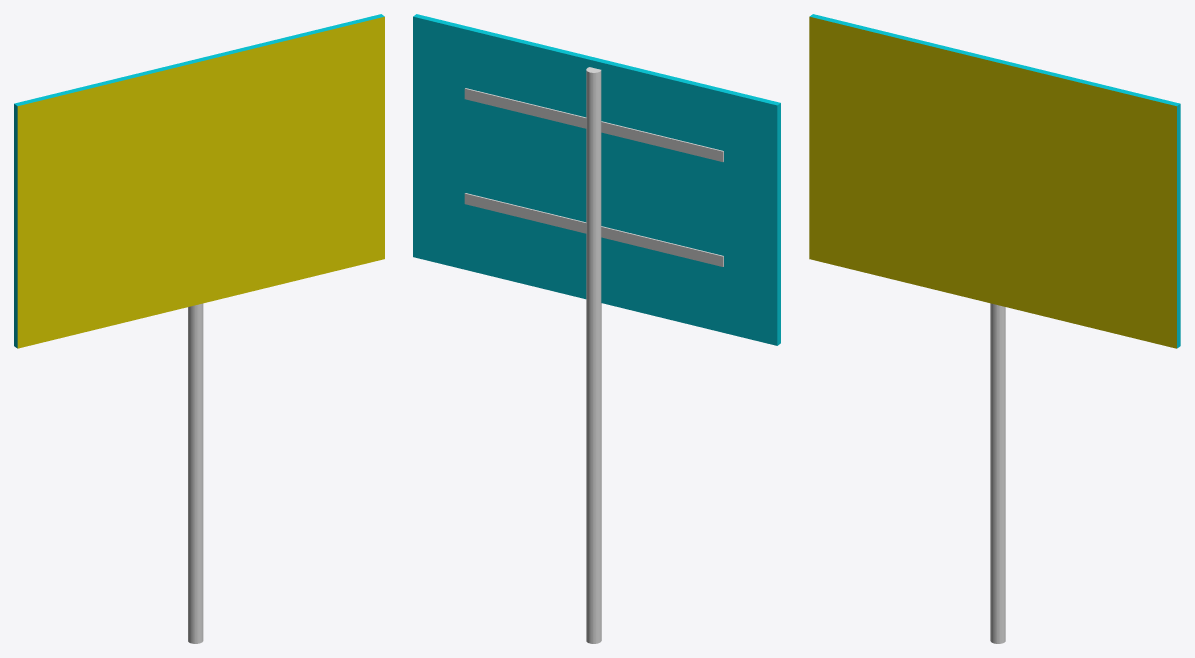
The model's file is bigboard_001.fbx.
3 renders of one model, left to right at view 1: azimuth 30°, elevation 25°; view 2: azimuth 150°, elevation 25°; view 3: azimuth 330°, elevation 25°, orthographic.
Visible parts, largest first — view 1: Cube.044, Cylinder.002; view 2: Cube.044, Cylinder.002, Cube.059, Cube.058; view 3: Cube.044, Cylinder.002.
Part boxes in pixels (box(x1,y1,x2,y2)): Cube.044: box(14, 14, 384, 348); Cylinder.002: box(188, 303, 203, 643); Cube.044: box(413, 14, 780, 345); Cylinder.002: box(586, 67, 601, 643); Cube.059: box(464, 193, 723, 266); Cube.058: box(464, 88, 723, 161); Cube.044: box(809, 14, 1180, 348); Cylinder.002: box(990, 303, 1005, 643).
Bounding box in the file's own units: 1794 × 2721 × 77.58.
